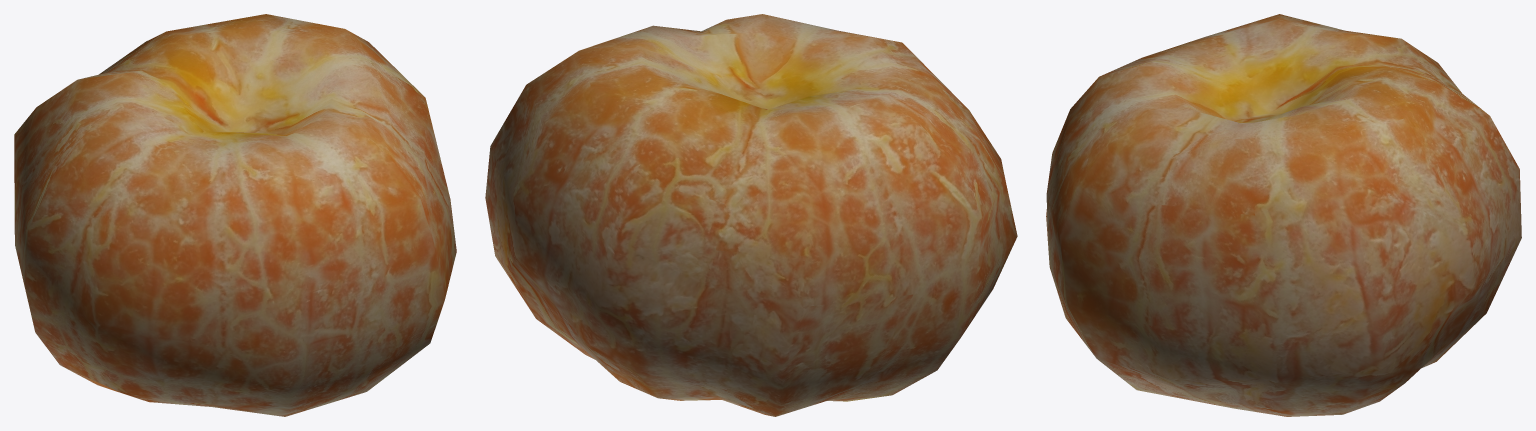
Rendered from A65_Orange_Segments_low.fbx.
The picture shows the model from 3 angles, left to right: view 1: azimuth 30°, elevation 25°; view 2: azimuth 150°, elevation 25°; view 3: azimuth 270°, elevation 25°; orthographic projection. The views are drawn at different scales.
Visible parts, largest first — view 1: A65_Orange_Segments_low; view 2: A65_Orange_Segments_low; view 3: A65_Orange_Segments_low.
Part boxes in pixels (<box>): A65_Orange_Segments_low: <box>14,14,456,416</box>; A65_Orange_Segments_low: <box>485,14,1017,416</box>; A65_Orange_Segments_low: <box>1046,14,1521,416</box>.
Bounding box in the file's own units: 7.82 × 7.46 × 5.48.
1 material, 1 textured.
